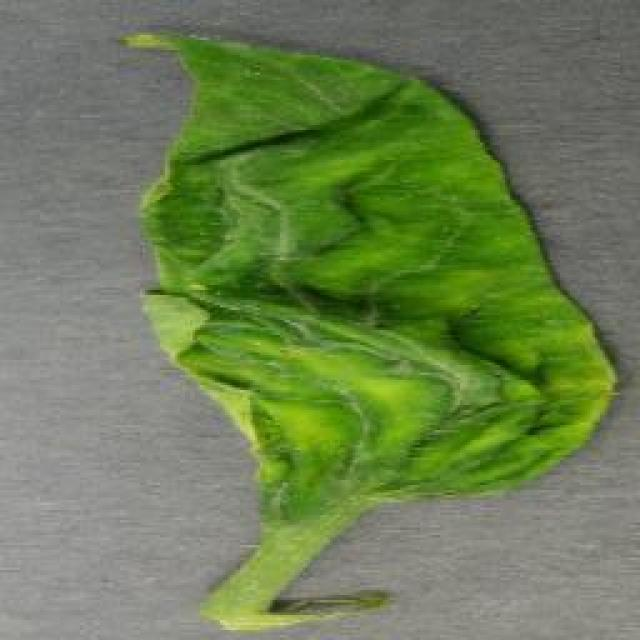Tomato yellow virus leaf: (126, 28, 624, 522)
